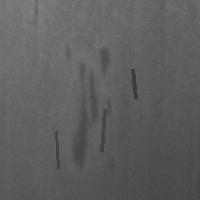inclusion: (68, 43, 117, 173), (96, 40, 114, 80), (99, 107, 106, 153), (31, 1, 42, 25), (54, 129, 60, 170), (130, 67, 137, 100)
